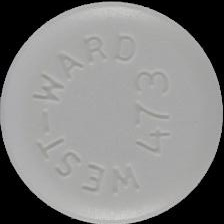0143-9739: (0, 0, 224, 224)
